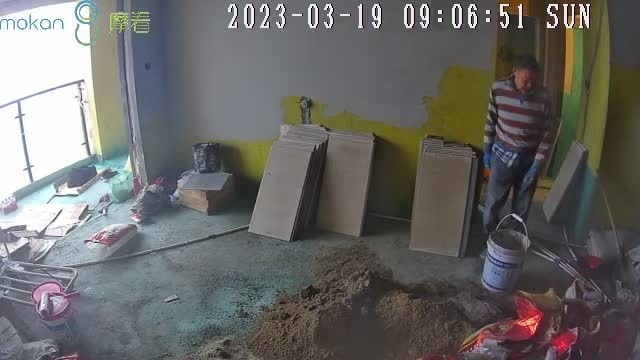people: (483, 54, 556, 257)
window: (1, 2, 96, 194)
